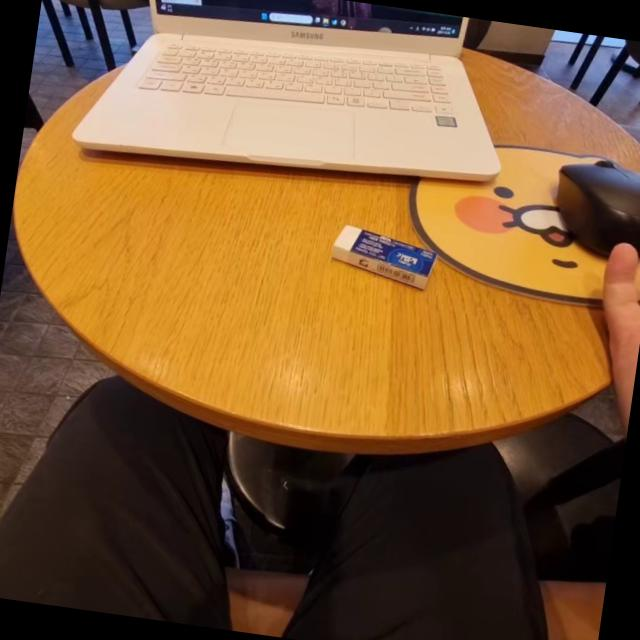eraser: (326, 210, 444, 292)
mouse: (534, 147, 640, 276)
